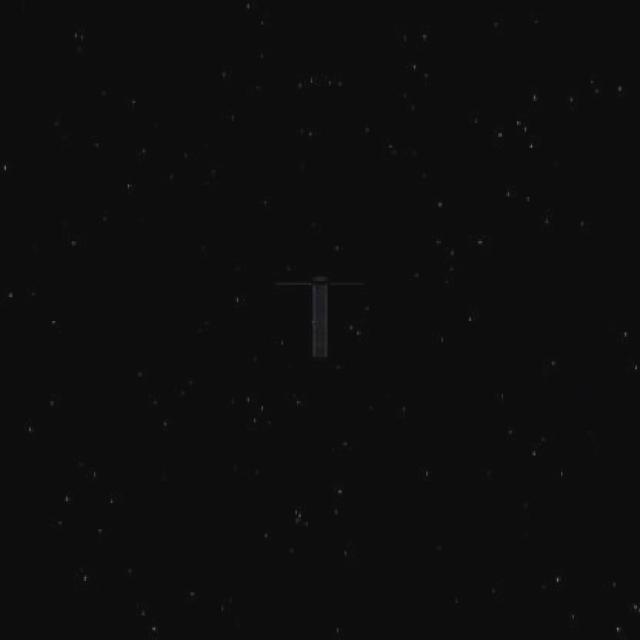satellite: (275, 261, 369, 377)
